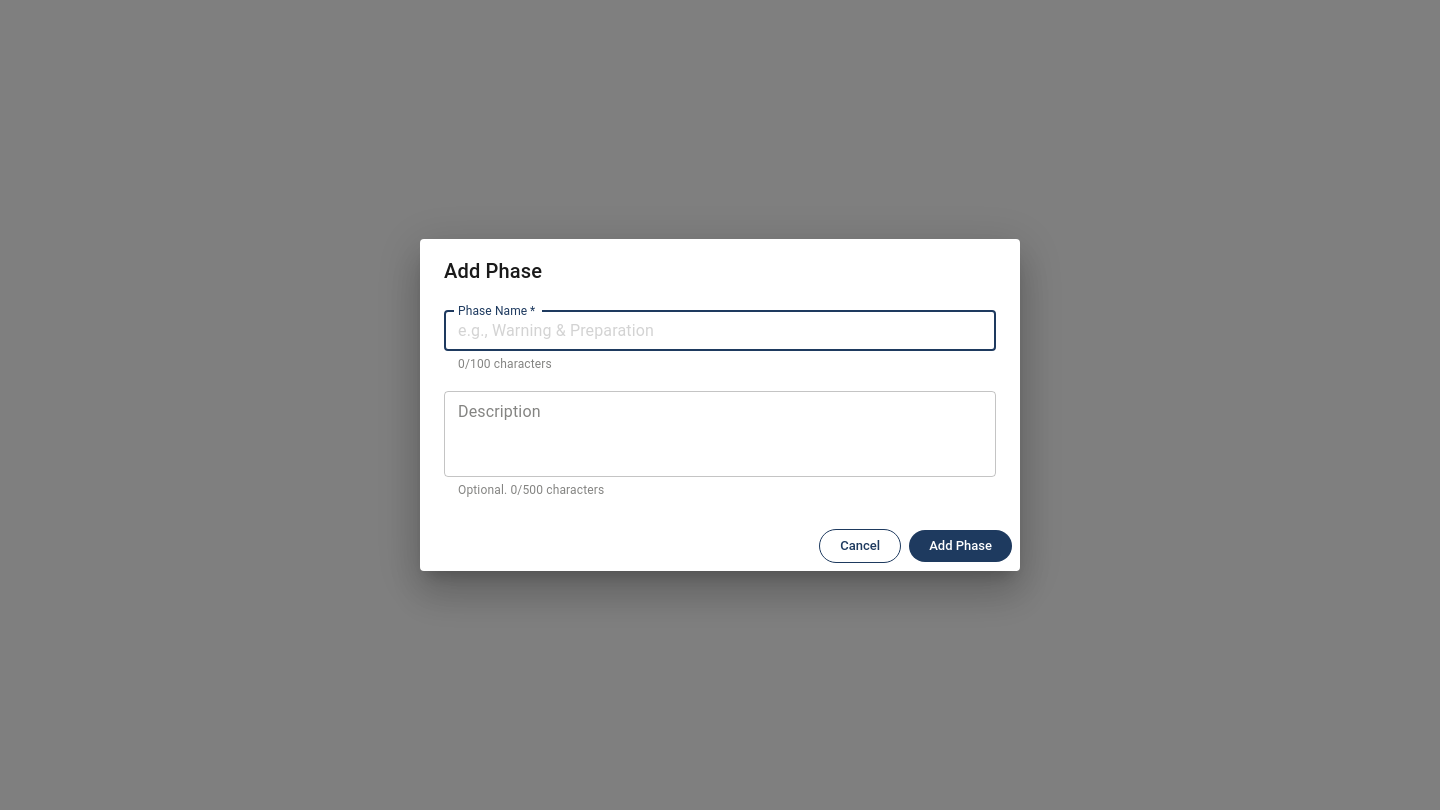
PhaseFormDialog › Form validation › shows error when name is too short
Type "AB" into the field labelled "Phase Name *" at coordinates (720, 331), box [444,311,996,351]
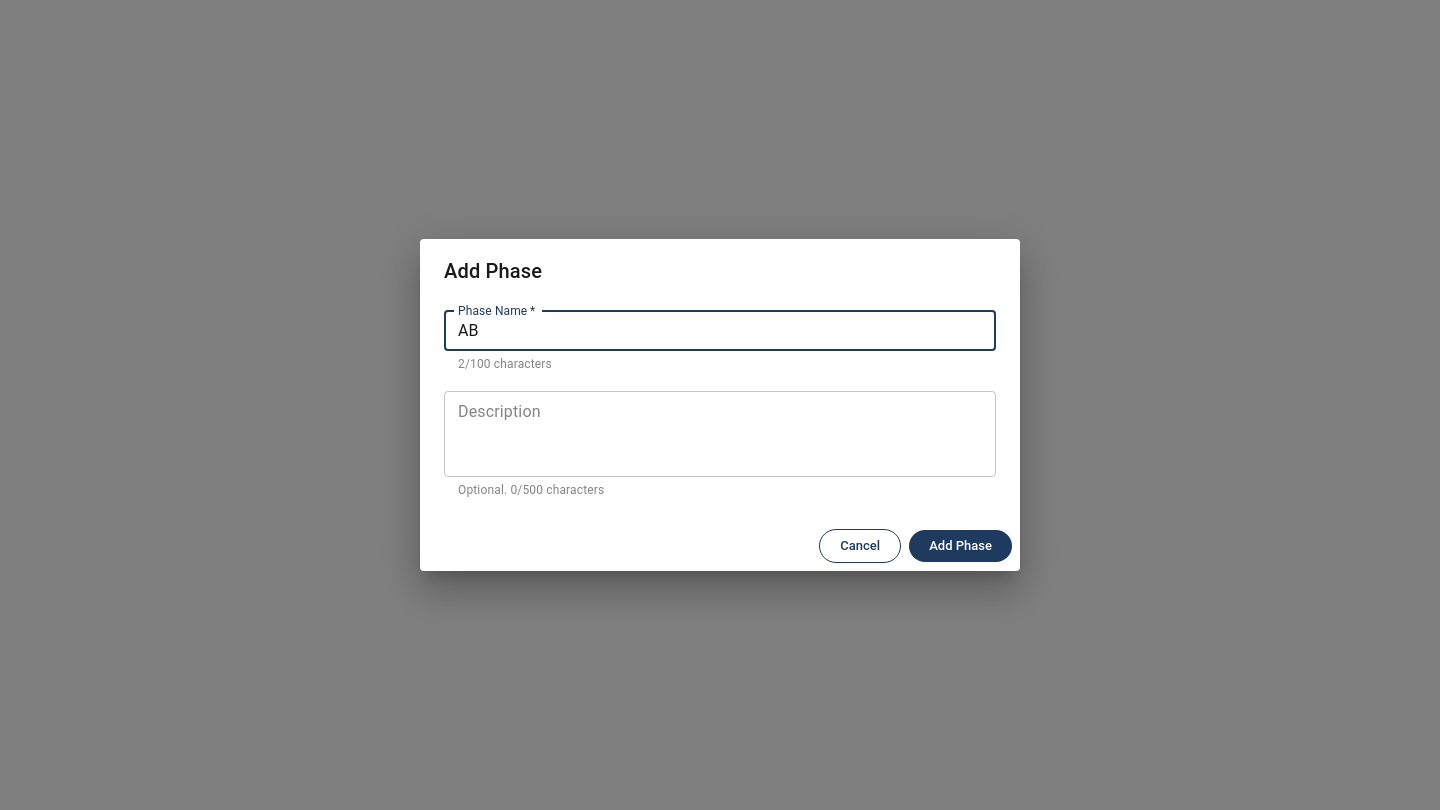
Leave the field labelled "Phase Name *", box [444,311,996,351]
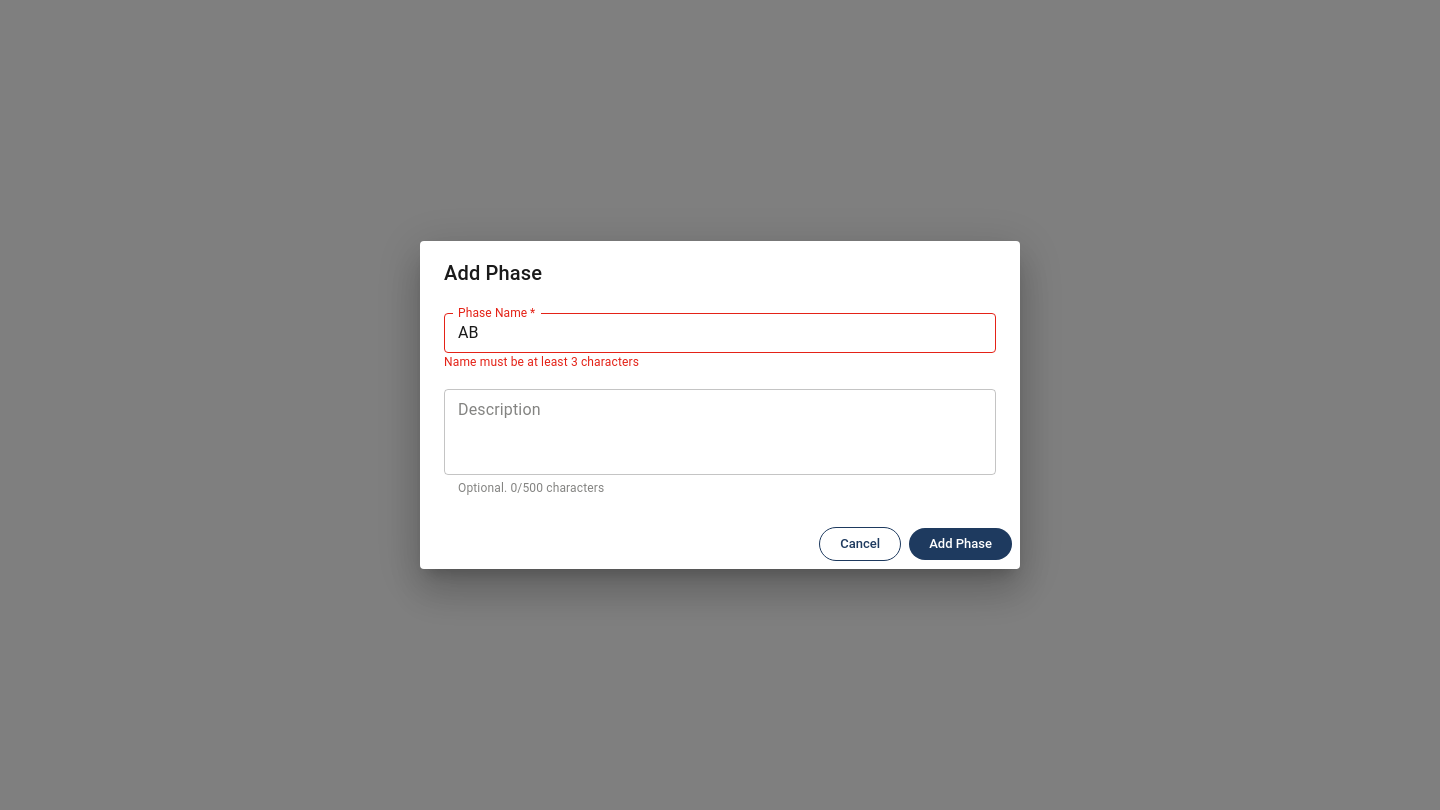
expect the text "Name must be at least 3 characters" is shown: met, box [444,355,639,369]
